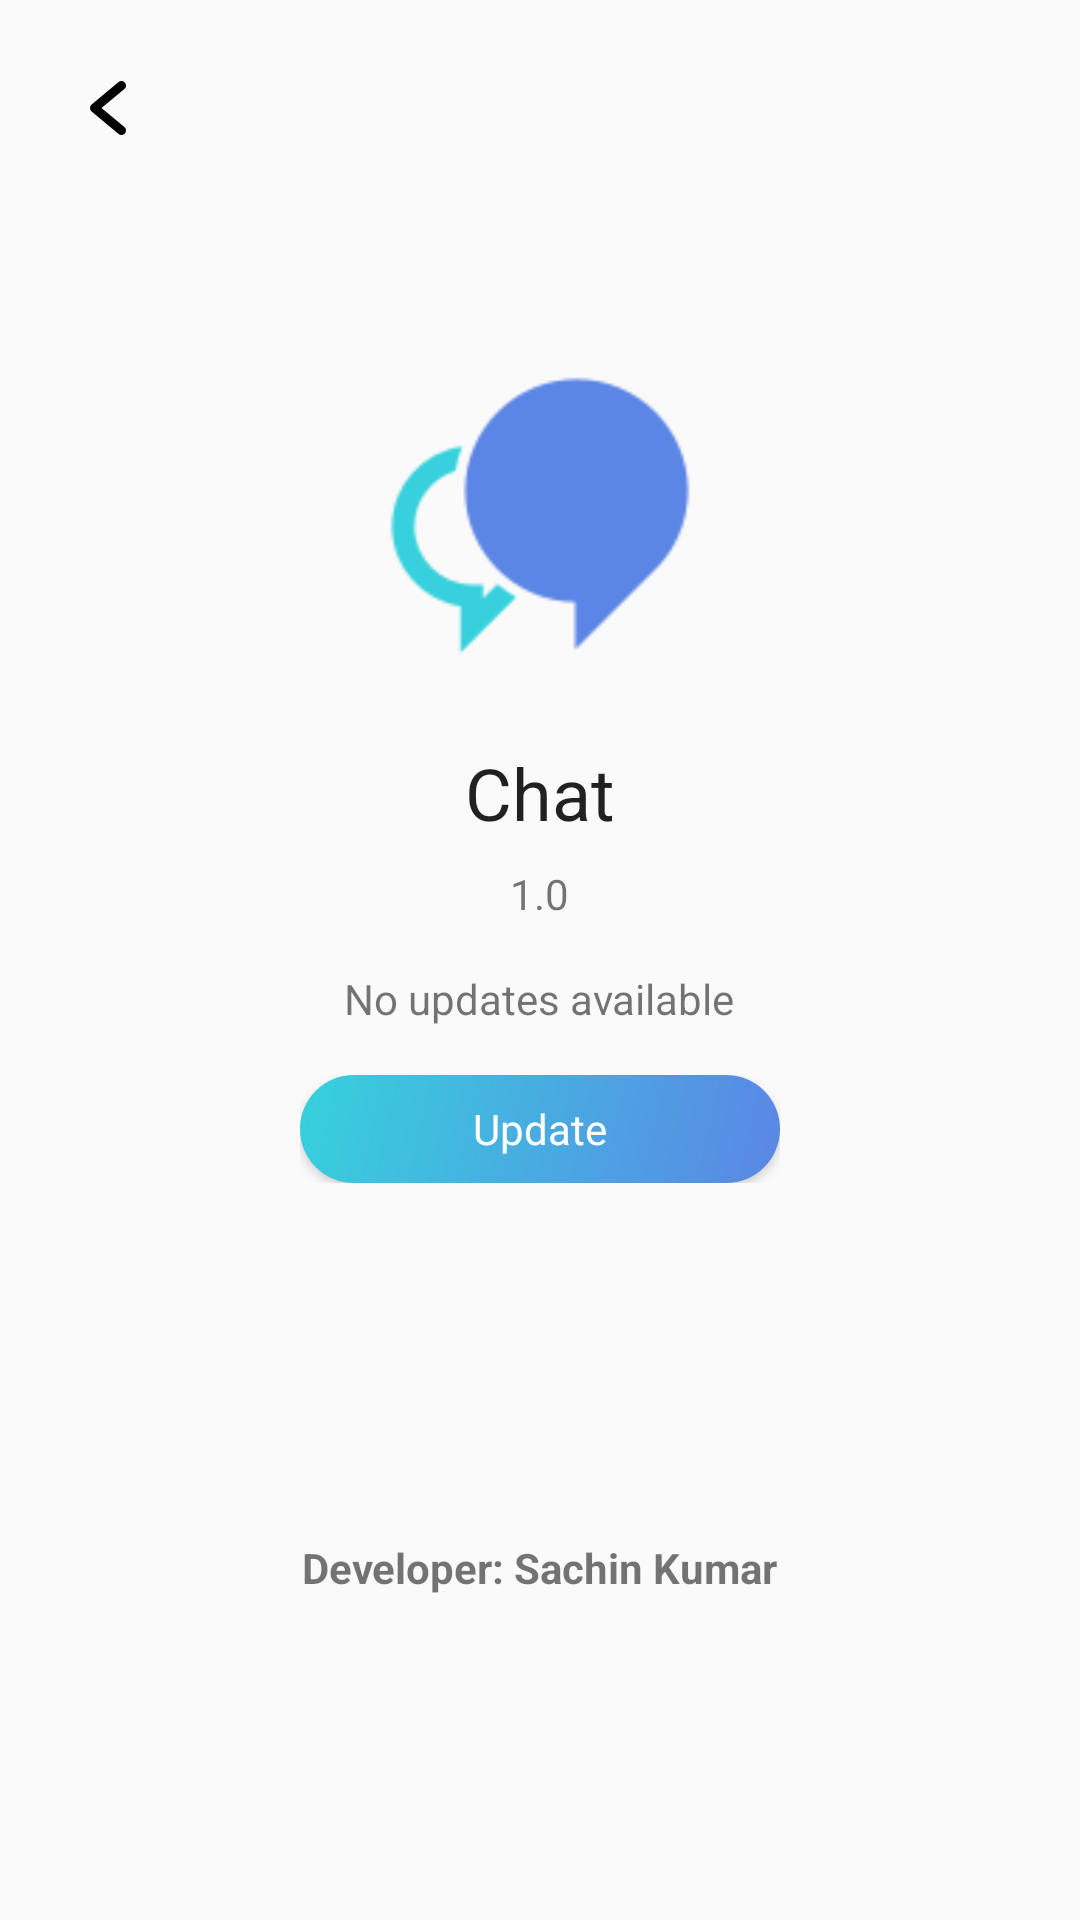

Icon bounding boxes for this 1080px×1920px phone screenshot, format (x1, y1, x2, y2):
ab back: (90, 81, 126, 135)
